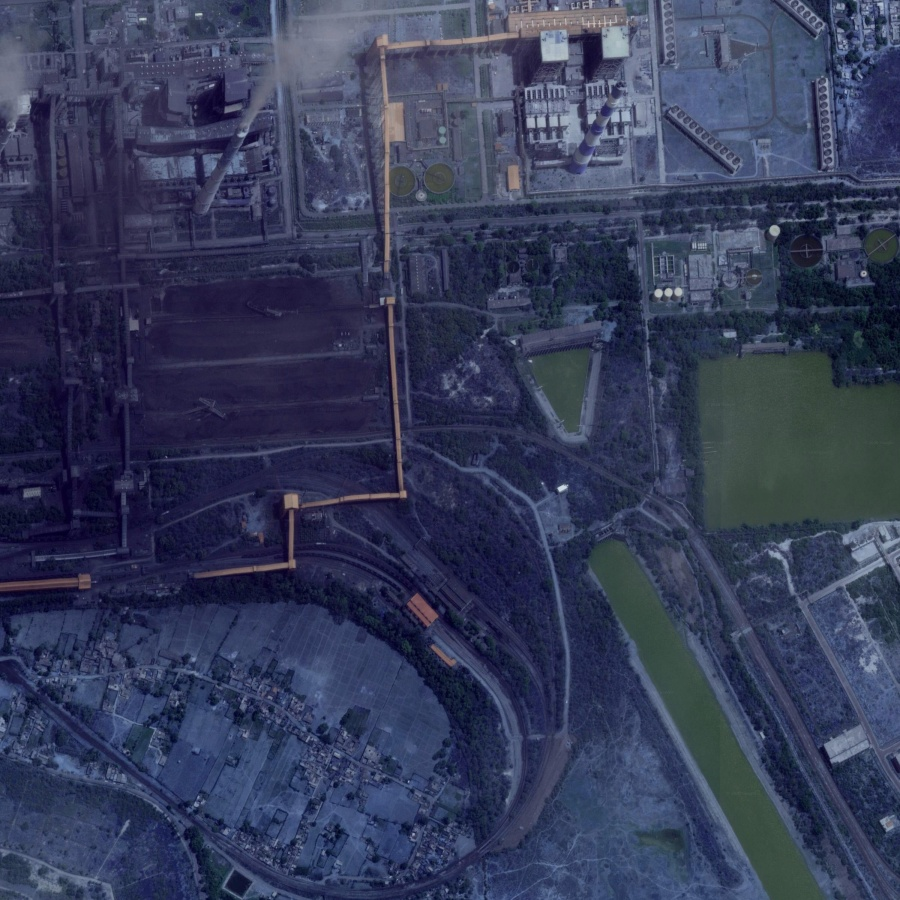PowerPlant: (517, 8, 641, 188)
